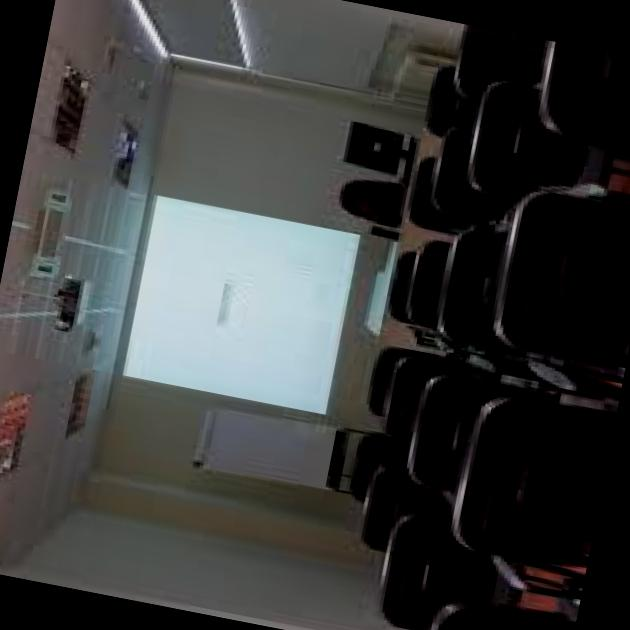projector: (102, 162, 394, 428)
